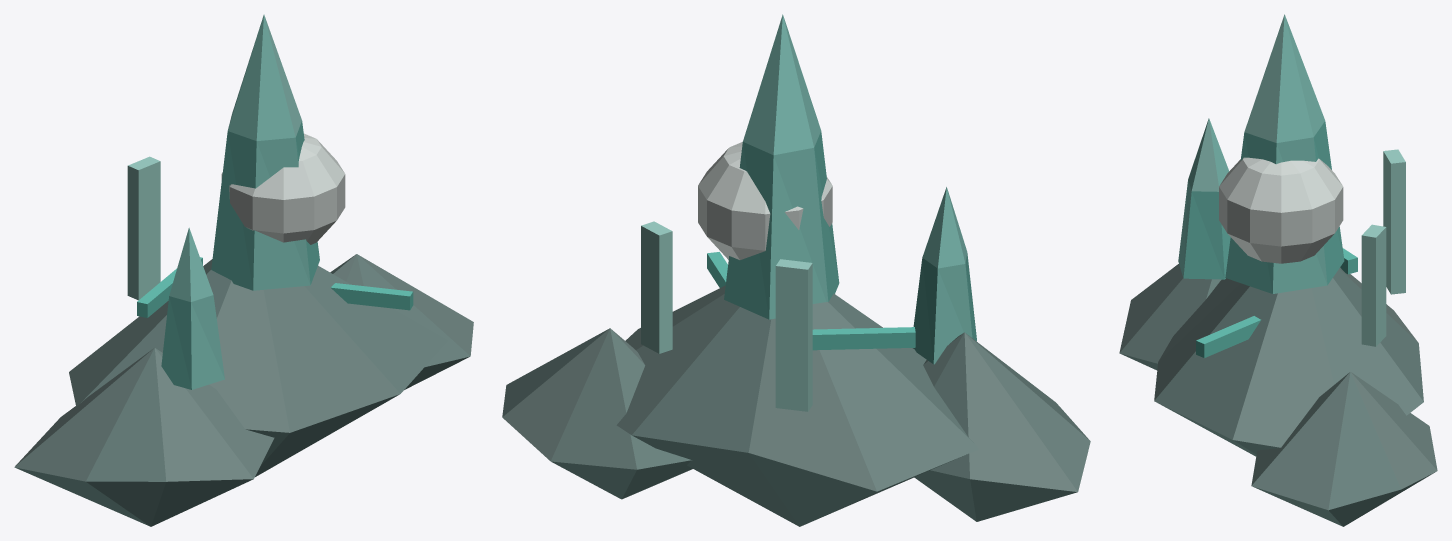
The model's file is Leviathan_Geode.glb.
3 views of the same model, side by side, from view 1: azimuth 30°, elevation 25°; view 2: azimuth 150°, elevation 25°; view 3: azimuth 270°, elevation 25° (orthographic). The views are drawn at different scales.
Visible parts, largest first — view 1: Leviathan_Geode; view 2: Leviathan_Geode; view 3: Leviathan_Geode.
Boxes of the visible parts, left/top/right/bottom form: Leviathan_Geode: left=14, top=14, right=473, bottom=526; Leviathan_Geode: left=502, top=14, right=1090, bottom=526; Leviathan_Geode: left=1119, top=14, right=1437, bottom=526.
Bounding box in the file's own units: 1.66 × 1.5 × 0.9255.
